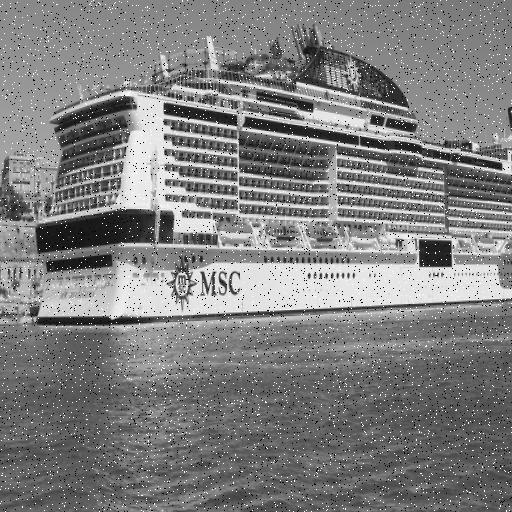cruises: (32, 19, 512, 336)
